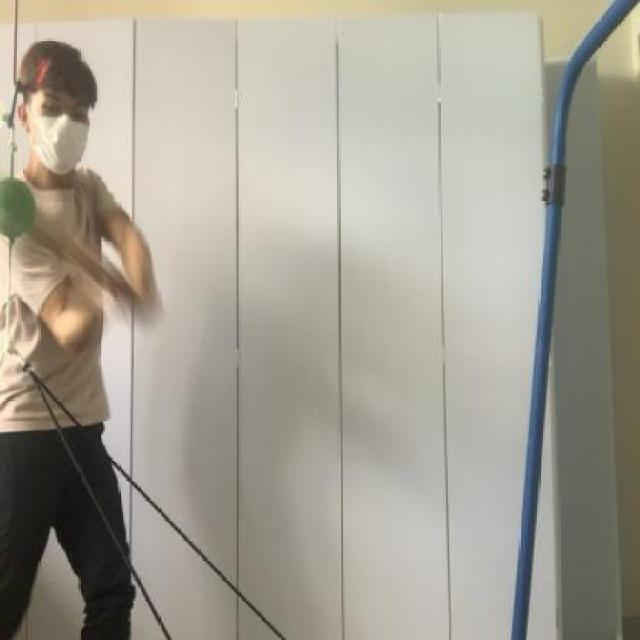baseball: (0, 171, 40, 247)
